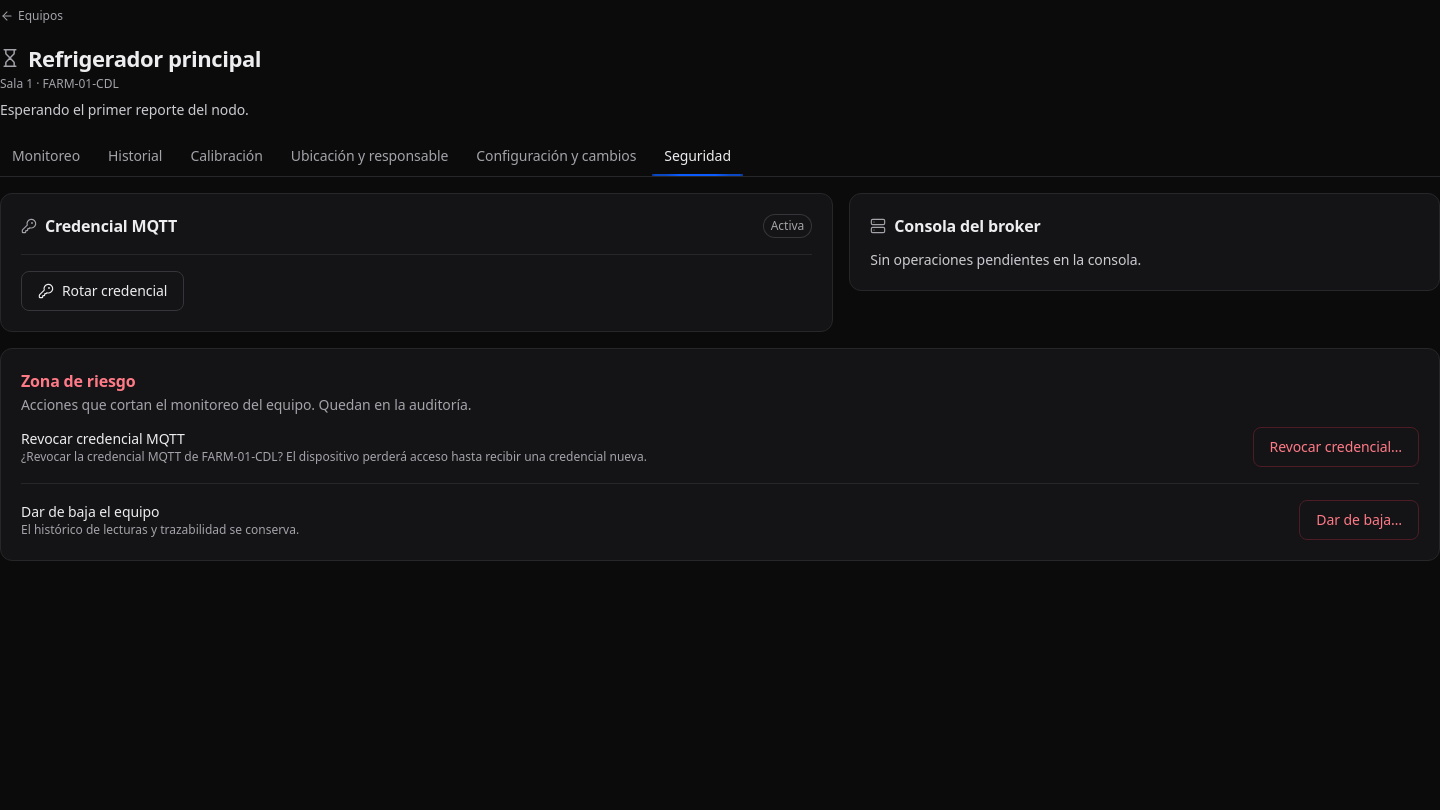
Test case: Detalle de dispositivo (pestañas) › revoca con motivo obligatorio desde la zona de riesgo
Click the button "Revocar credencial…".
click(1336, 447)  # box top-left (1252, 427), bottom-right (1419, 467)
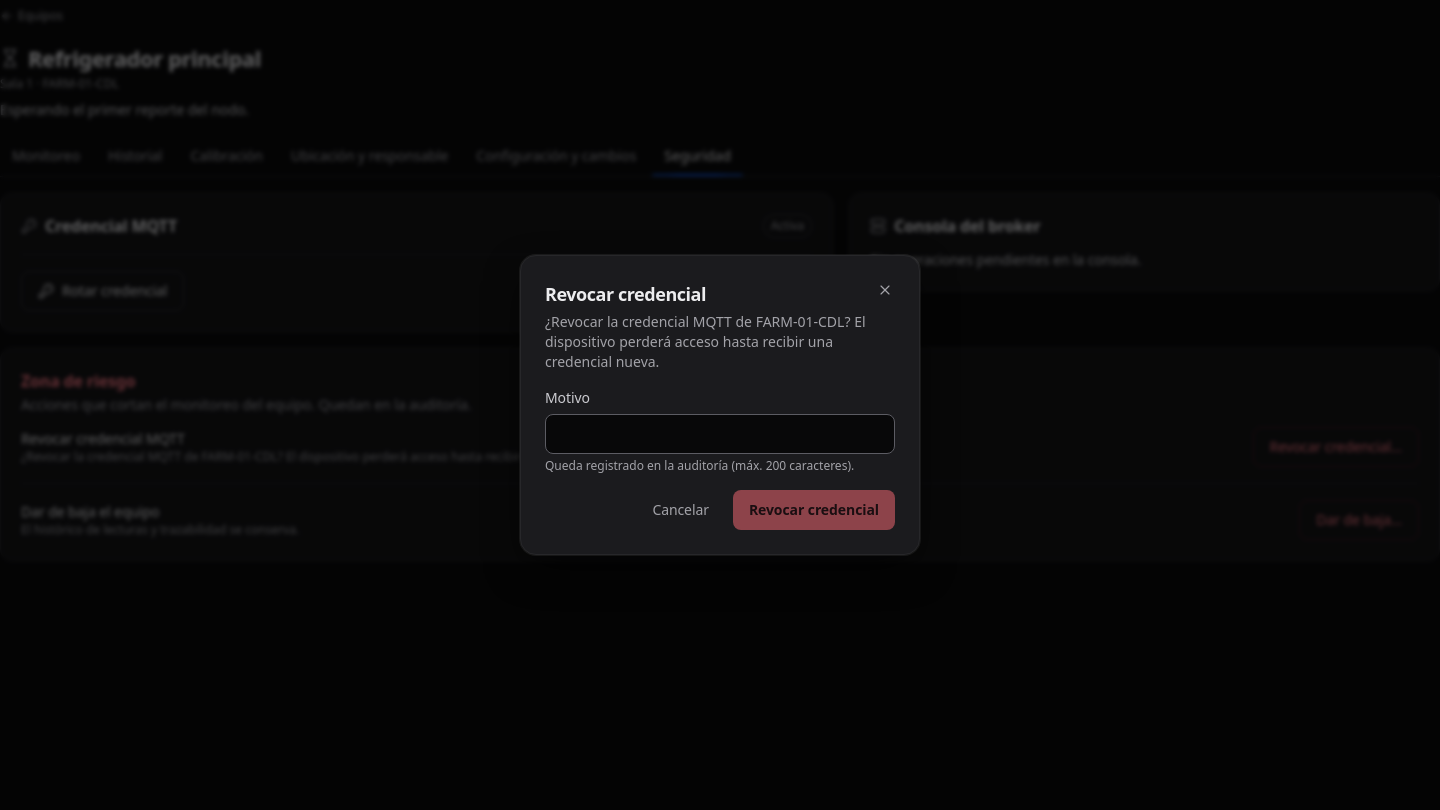
expect the button "Revocar credencial" is disabled: met, box top-left (733, 490), bottom-right (895, 530)
Type "Equipo extraviado" into the field labelled "Motivo".
click(720, 434); type("Equipo extraviado")  # box top-left (545, 414), bottom-right (895, 454)
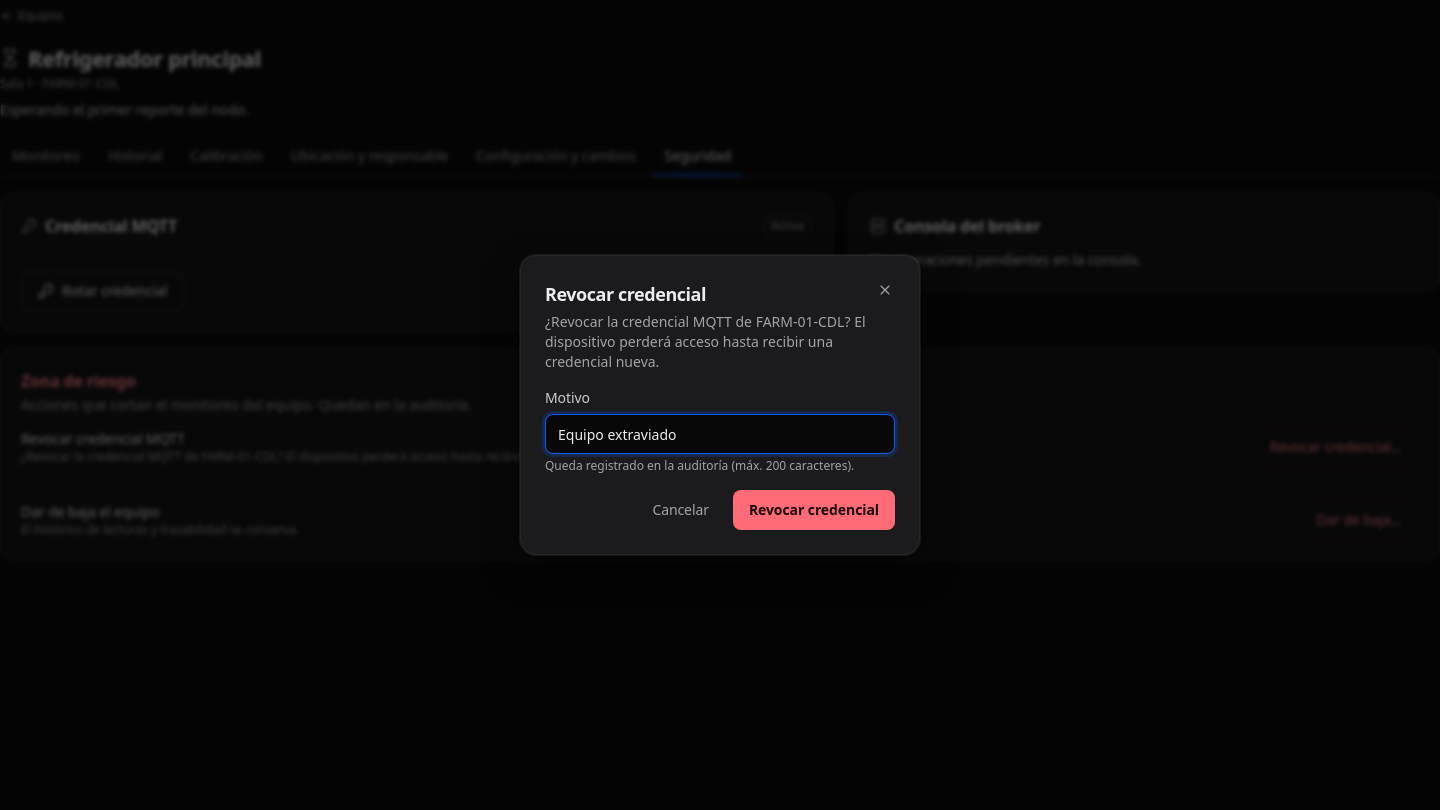
Click the button "Revocar credencial".
click(814, 510)  # box top-left (733, 490), bottom-right (895, 530)
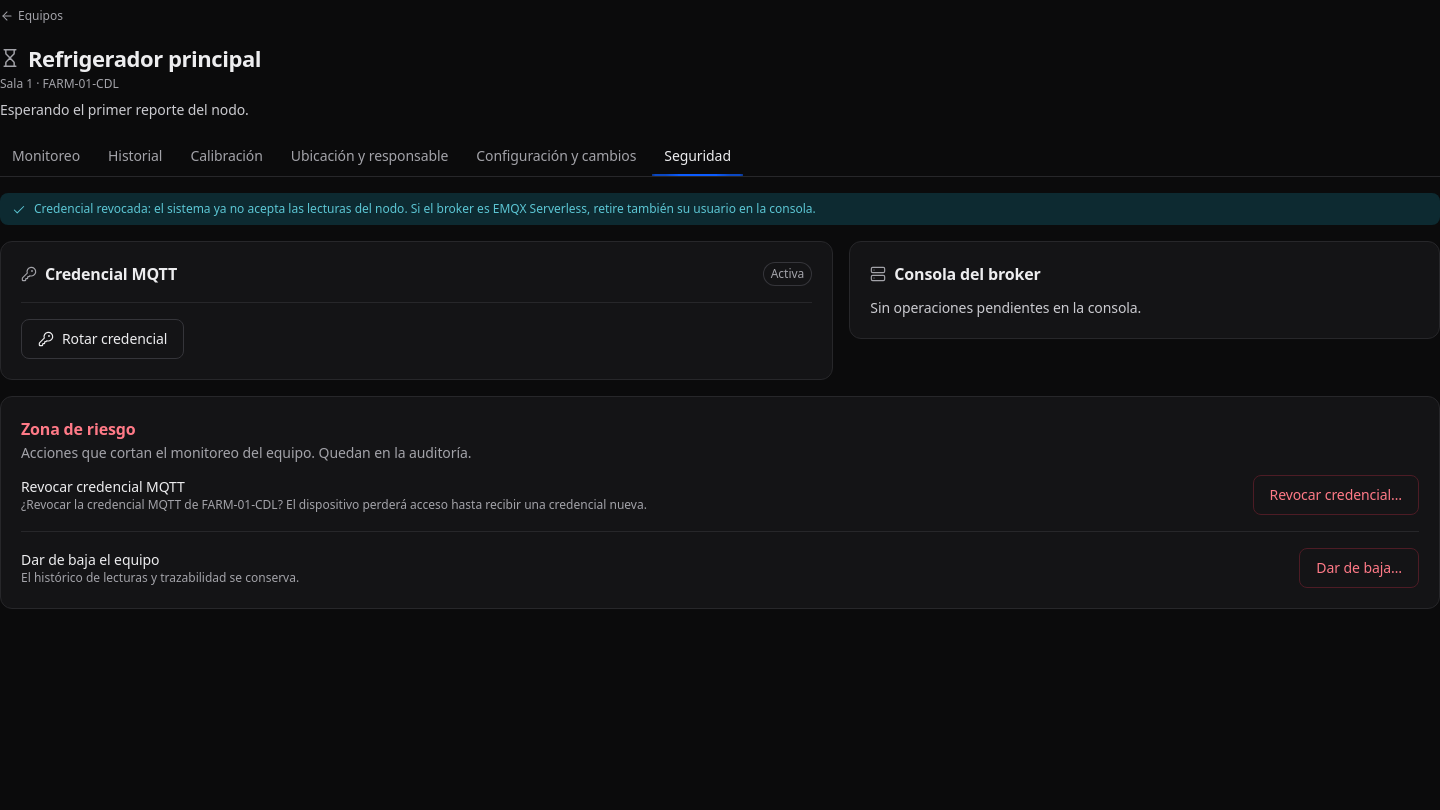
expect the text "Credencial revocada: el sistema ya no acepta" is shown: met, box top-left (34, 200), bottom-right (816, 217)
